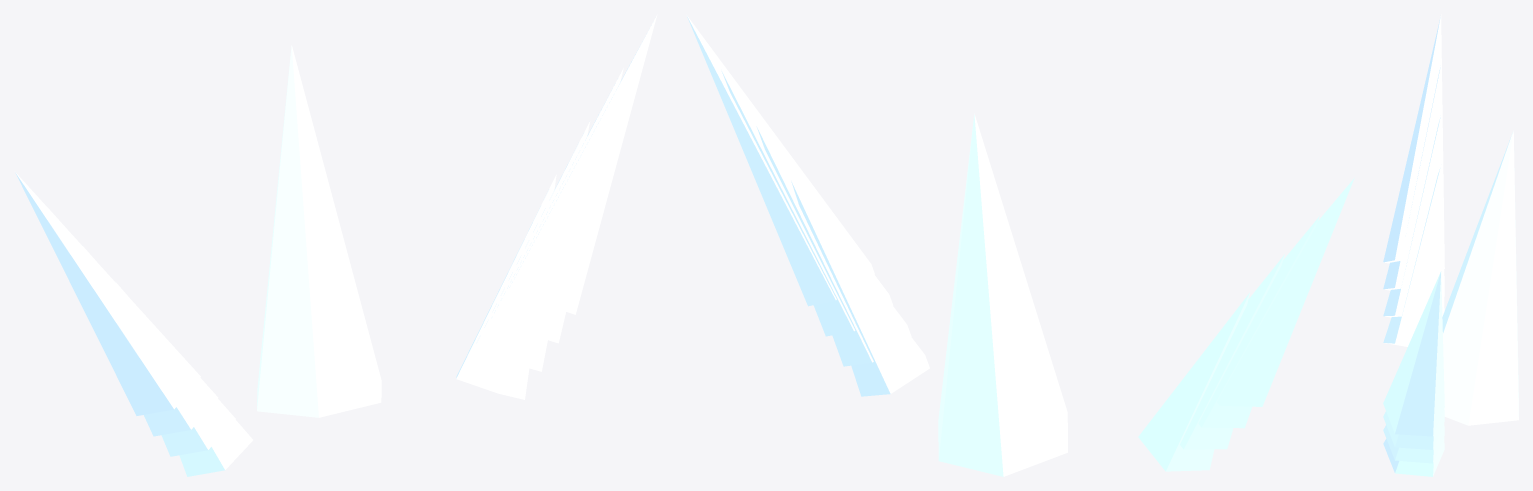
Rendered from NIX_ASCENDED.glb.
The picture shows the model from 3 angles, left to right: view 1: azimuth 30°, elevation 25°; view 2: azimuth 150°, elevation 25°; view 3: azimuth 270°, elevation 25°; orthographic projection. The views are drawn at different scales.
Parts seen in each view (by area): view 1: ANI08C_nix-calder_2_central_crystal, ANI08C_nix-calder_2_mantle_facet_R3, ANI08C_nix-calder_2_mantle_facet_L3, ANI08C_nix-calder_2_mantle_facet_R0, ANI08C_nix-calder_2_mantle_facet_R2, ANI08C_nix-calder_2_mantle_facet_R1, ANI08C_nix-calder_2_mantle_facet_L2, ANI08C_nix-calder_2_mantle_facet_L1, ANI08C_nix-calder_2_mantle_facet_L0; view 2: ANI08C_nix-calder_2_central_crystal, ANI08C_nix-calder_2_mantle_facet_R0, ANI08C_nix-calder_2_mantle_facet_R3, ANI08C_nix-calder_2_mantle_facet_L3, ANI08C_nix-calder_2_mantle_facet_L0, ANI08C_nix-calder_2_mantle_facet_R2, ANI08C_nix-calder_2_mantle_facet_R1, ANI08C_nix-calder_2_mantle_facet_L1, ANI08C_nix-calder_2_mantle_facet_L2; view 3: ANI08C_nix-calder_2_central_crystal, ANI08C_nix-calder_2_mantle_facet_R3, ANI08C_nix-calder_2_mantle_facet_L0, ANI08C_nix-calder_2_mantle_facet_L3, ANI08C_nix-calder_2_mantle_facet_L1, ANI08C_nix-calder_2_mantle_facet_L2, ANI08C_nix-calder_2_mantle_facet_R2, ANI08C_nix-calder_2_mantle_facet_R1, ANI08C_nix-calder_2_mantle_facet_R0.
Boxes of the visible parts, box(x1,y1,x2,y2) form: ANI08C_nix-calder_2_central_crystal: box(257, 45, 381, 417); ANI08C_nix-calder_2_mantle_facet_R3: box(509, 14, 657, 314); ANI08C_nix-calder_2_mantle_facet_L3: box(15, 172, 200, 415); ANI08C_nix-calder_2_mantle_facet_R0: box(456, 174, 556, 399); ANI08C_nix-calder_2_mantle_facet_R2: box(491, 68, 623, 343); ANI08C_nix-calder_2_mantle_facet_R1: box(474, 121, 590, 371); ANI08C_nix-calder_2_mantle_facet_L2: box(48, 208, 218, 436); ANI08C_nix-calder_2_mantle_facet_L1: box(82, 245, 235, 456); ANI08C_nix-calder_2_mantle_facet_L0: box(115, 282, 252, 476); ANI08C_nix-calder_2_central_crystal: box(938, 113, 1067, 476); ANI08C_nix-calder_2_mantle_facet_R0: box(791, 180, 929, 396); ANI08C_nix-calder_2_mantle_facet_R3: box(686, 15, 874, 306); ANI08C_nix-calder_2_mantle_facet_L3: box(1217, 177, 1354, 406); ANI08C_nix-calder_2_mantle_facet_L0: box(1138, 292, 1249, 471); ANI08C_nix-calder_2_mantle_facet_R2: box(721, 70, 893, 336); ANI08C_nix-calder_2_mantle_facet_R1: box(756, 125, 911, 366); ANI08C_nix-calder_2_mantle_facet_L1: box(1180, 254, 1284, 449); ANI08C_nix-calder_2_mantle_facet_L2: box(1198, 216, 1319, 428); ANI08C_nix-calder_2_central_crystal: box(1442, 130, 1518, 425); ANI08C_nix-calder_2_mantle_facet_R3: box(1383, 271, 1444, 436); ANI08C_nix-calder_2_mantle_facet_L0: box(1383, 165, 1443, 346); ANI08C_nix-calder_2_mantle_facet_L3: box(1383, 14, 1444, 268); ANI08C_nix-calder_2_mantle_facet_L1: box(1383, 115, 1444, 317); ANI08C_nix-calder_2_mantle_facet_L2: box(1383, 64, 1444, 296); ANI08C_nix-calder_2_mantle_facet_R2: box(1383, 409, 1444, 449); ANI08C_nix-calder_2_mantle_facet_R1: box(1383, 423, 1444, 463); ANI08C_nix-calder_2_mantle_facet_R0: box(1383, 437, 1444, 476).
Bounding box in the file's own units: 0.67 × 0.3461 × 0.1497.
